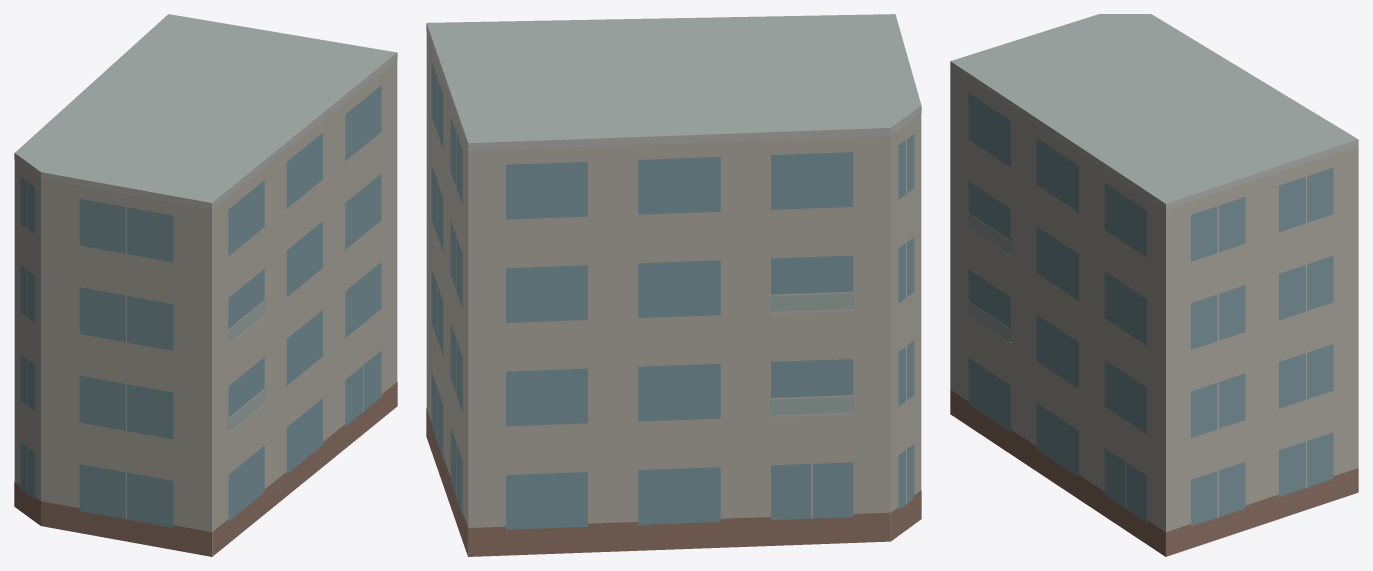
File: survey-upis-32811891.glb
3 views of the same model, side by side, from view 1: azimuth 30°, elevation 25°; view 2: azimuth 150°, elevation 25°; view 3: azimuth 270°, elevation 25° (orthographic). The views are drawn at different scales.
Parts seen in each view (by area): view 1: survey-upis-32811891.tmp; view 2: survey-upis-32811891.tmp; view 3: survey-upis-32811891.tmp.
Boxes of the visible parts, x1,y1,x2,y2 form: survey-upis-32811891.tmp: [14, 14, 397, 556]; survey-upis-32811891.tmp: [426, 14, 921, 556]; survey-upis-32811891.tmp: [950, 14, 1358, 556].
Size of the model in its own units: 14.78 by 12.8 by 13.43.
